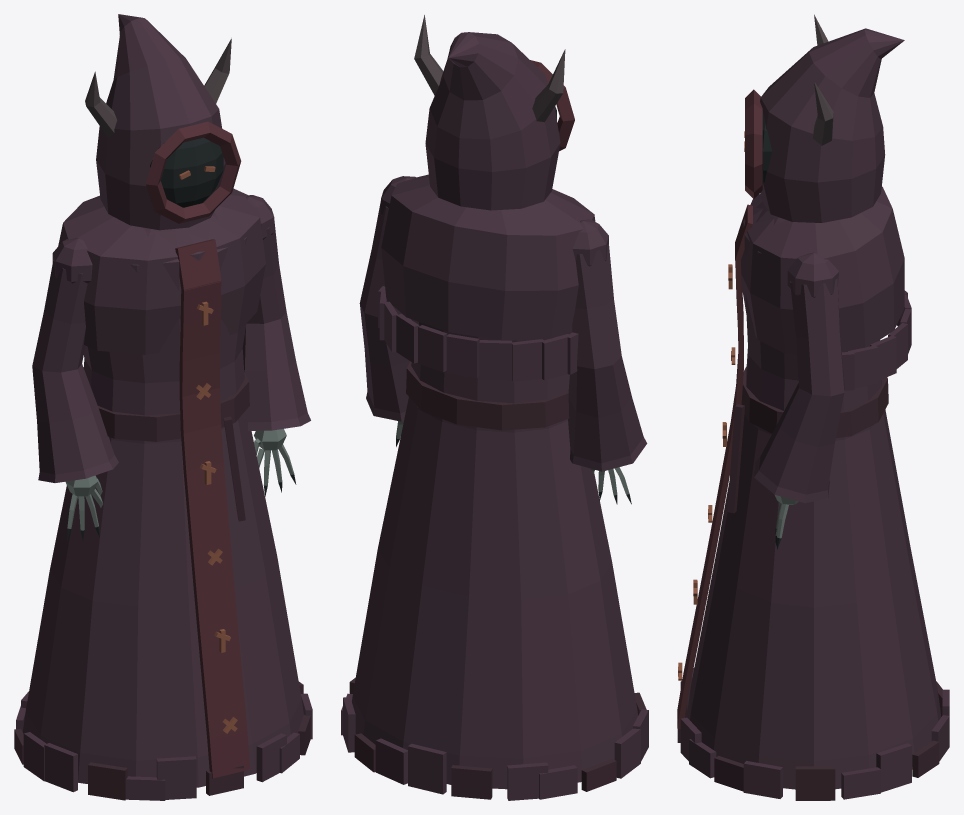
File: vrajitor_3.glb
3 renders of one model, left to right at view 1: azimuth 30°, elevation 25°; view 2: azimuth 150°, elevation 25°; view 3: azimuth 270°, elevation 25°, orthographic. The views are drawn at different scales.
Parts seen in each view (by area): view 1: Corp, Cap, BratDrept, BratStang, Lumini; view 2: Corp, Cap, BratDrept, BratStang; view 3: Corp, Cap, BratStang, Lumini.
Boxes of the visible parts, bbox=[...] form: Corp: bbox=[14, 188, 312, 800]; Cap: bbox=[85, 14, 241, 230]; BratDrept: bbox=[32, 238, 118, 540]; BratStang: bbox=[242, 195, 310, 496]; Lumini: bbox=[196, 301, 237, 733]; Corp: bbox=[341, 174, 648, 800]; Cap: bbox=[414, 15, 574, 210]; BratDrept: bbox=[568, 219, 647, 504]; BratStang: bbox=[359, 176, 416, 446]; Corp: bbox=[677, 186, 949, 800]; Cap: bbox=[745, 14, 904, 222]; BratStang: bbox=[754, 252, 844, 549]; Lumini: bbox=[678, 264, 735, 680].
Bounding box in the file's own units: 0.7673 × 1.97 × 0.6886.
